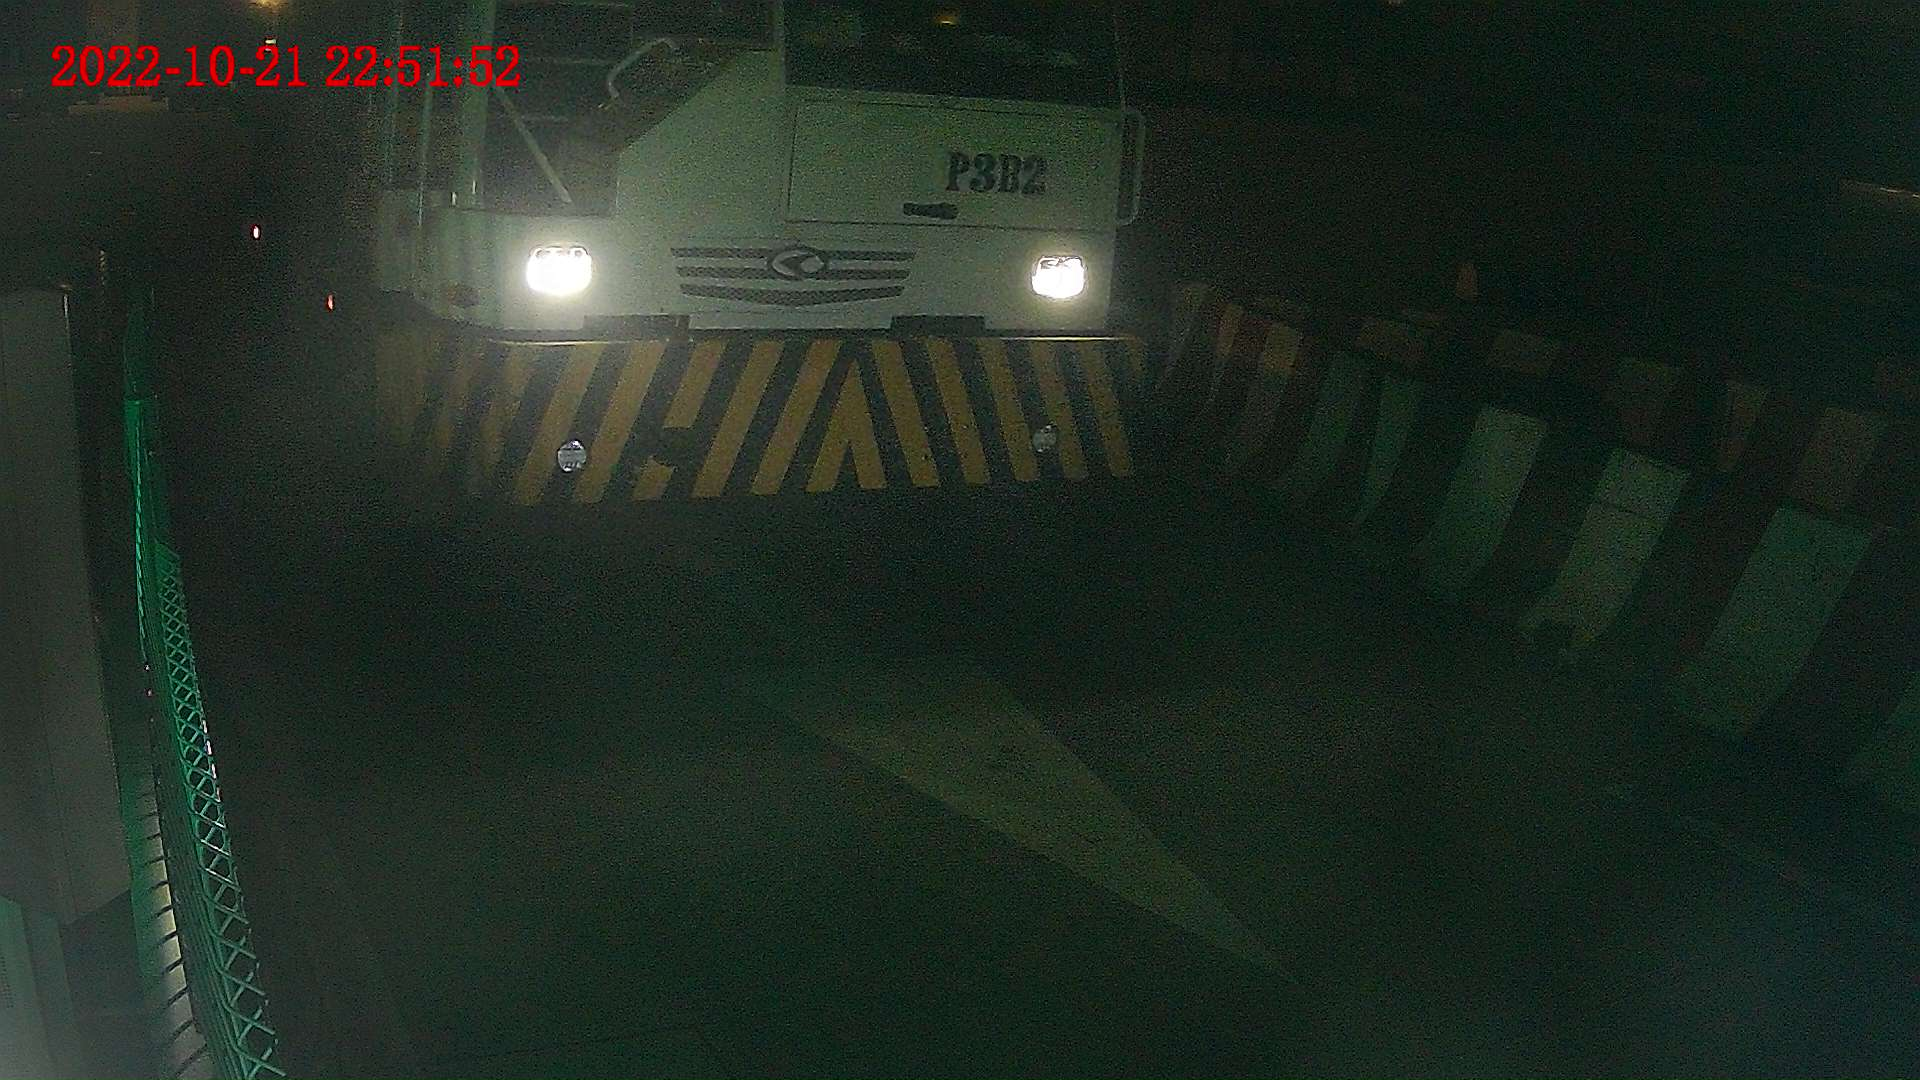head: (292, 1, 1156, 515)
